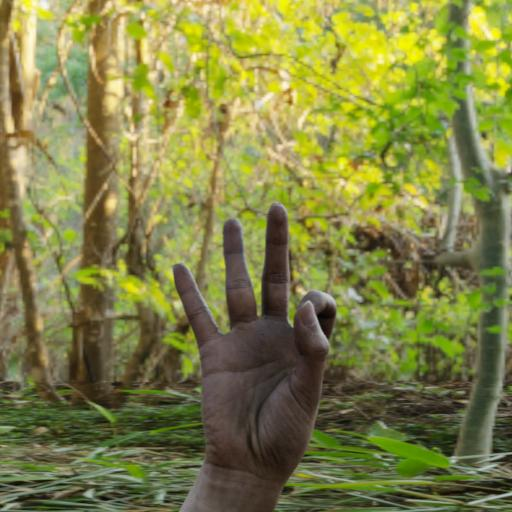F: (167, 197, 337, 478)
